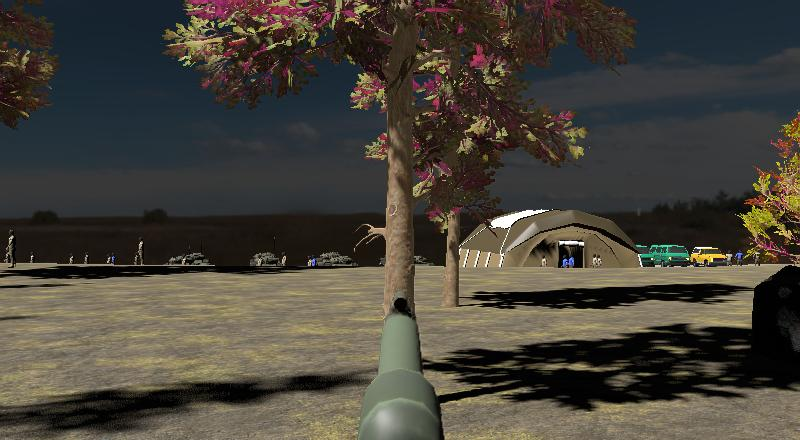Human: (733, 250, 745, 267)
Tank: (312, 250, 359, 269)
car: (641, 243, 691, 269), (690, 246, 729, 268)
